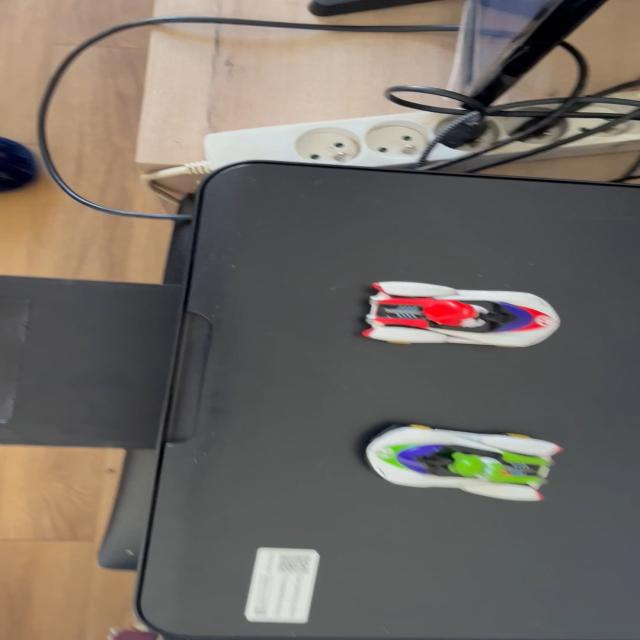mario: (344, 275, 572, 354)
yoshi: (349, 417, 578, 511)
